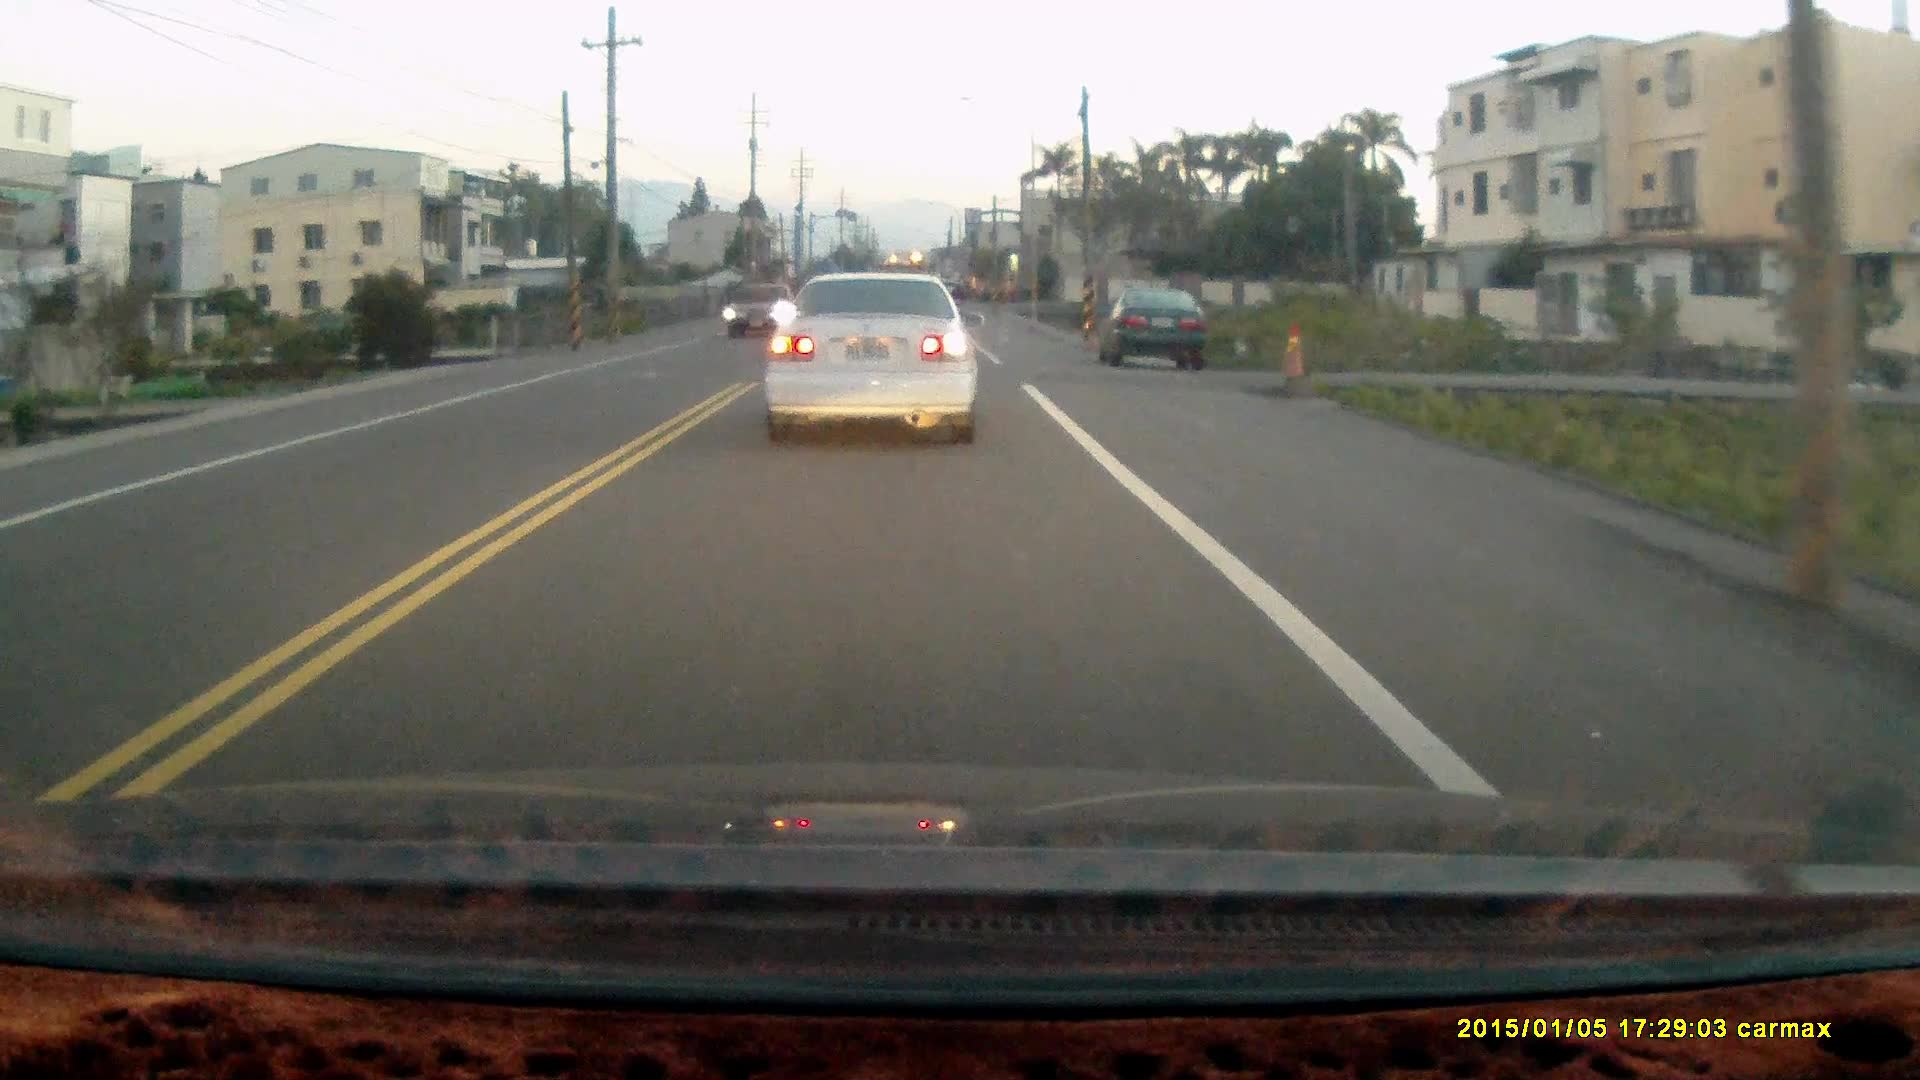vehicle: (762, 270, 978, 452), (1104, 290, 1212, 377), (725, 284, 795, 344)
